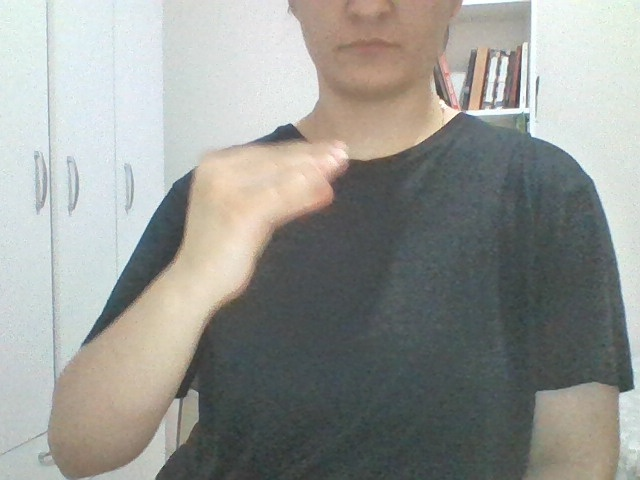No: (116, 97, 382, 308)
